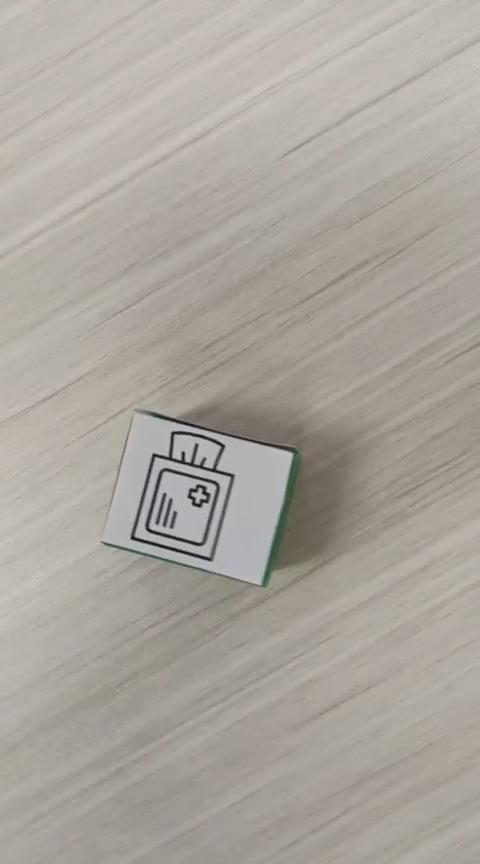Gauze: (99, 407, 300, 589)
